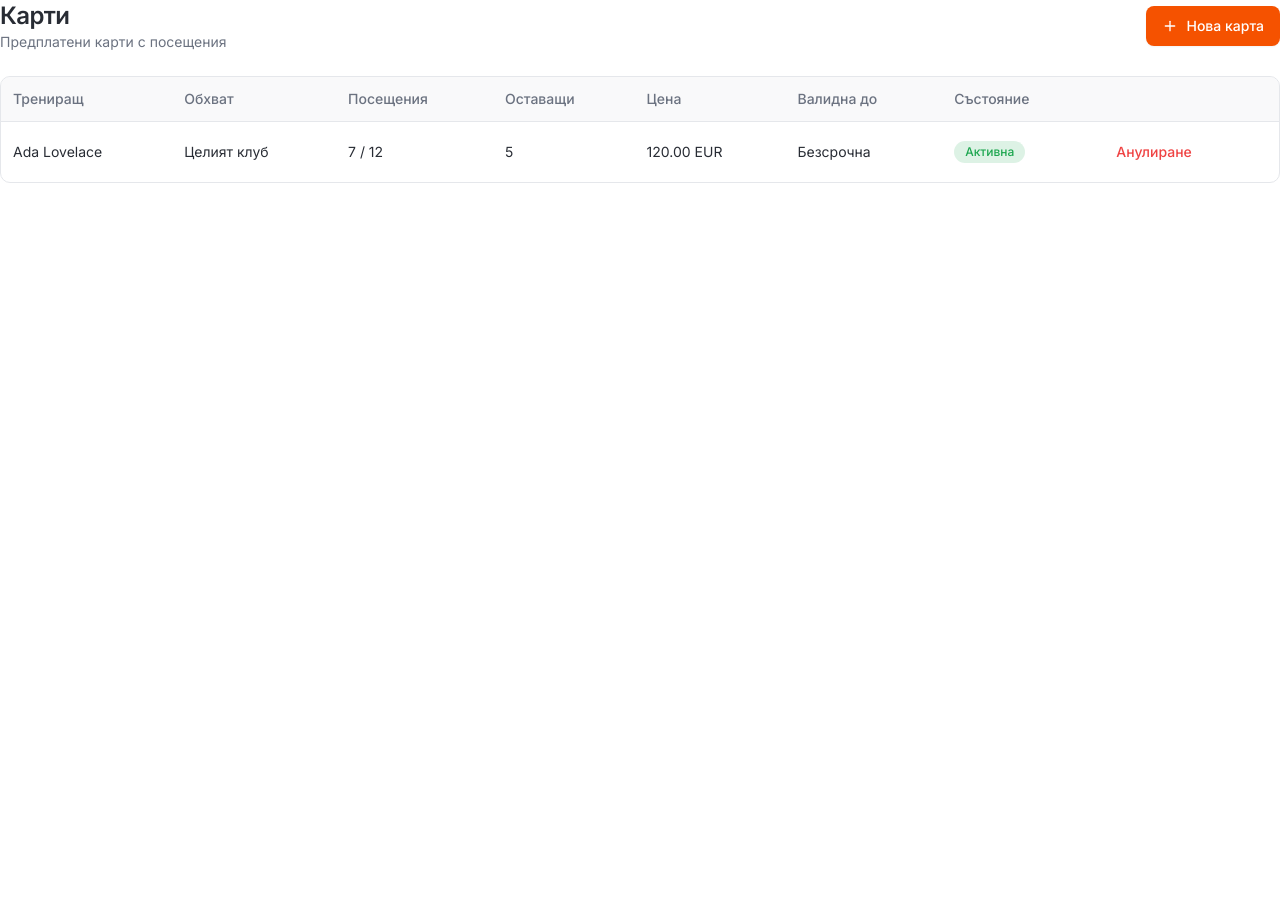
CardsPage — cancel with prorated refund (TKT-0115) › records the (edited) refund through the refunds endpoint first, then cancels
Expected: the text "Ada Lovelace" is shown, [1, 122, 172, 182]
Click the button "Анулиране" at (1154, 152), box [1104, 134, 1204, 170]
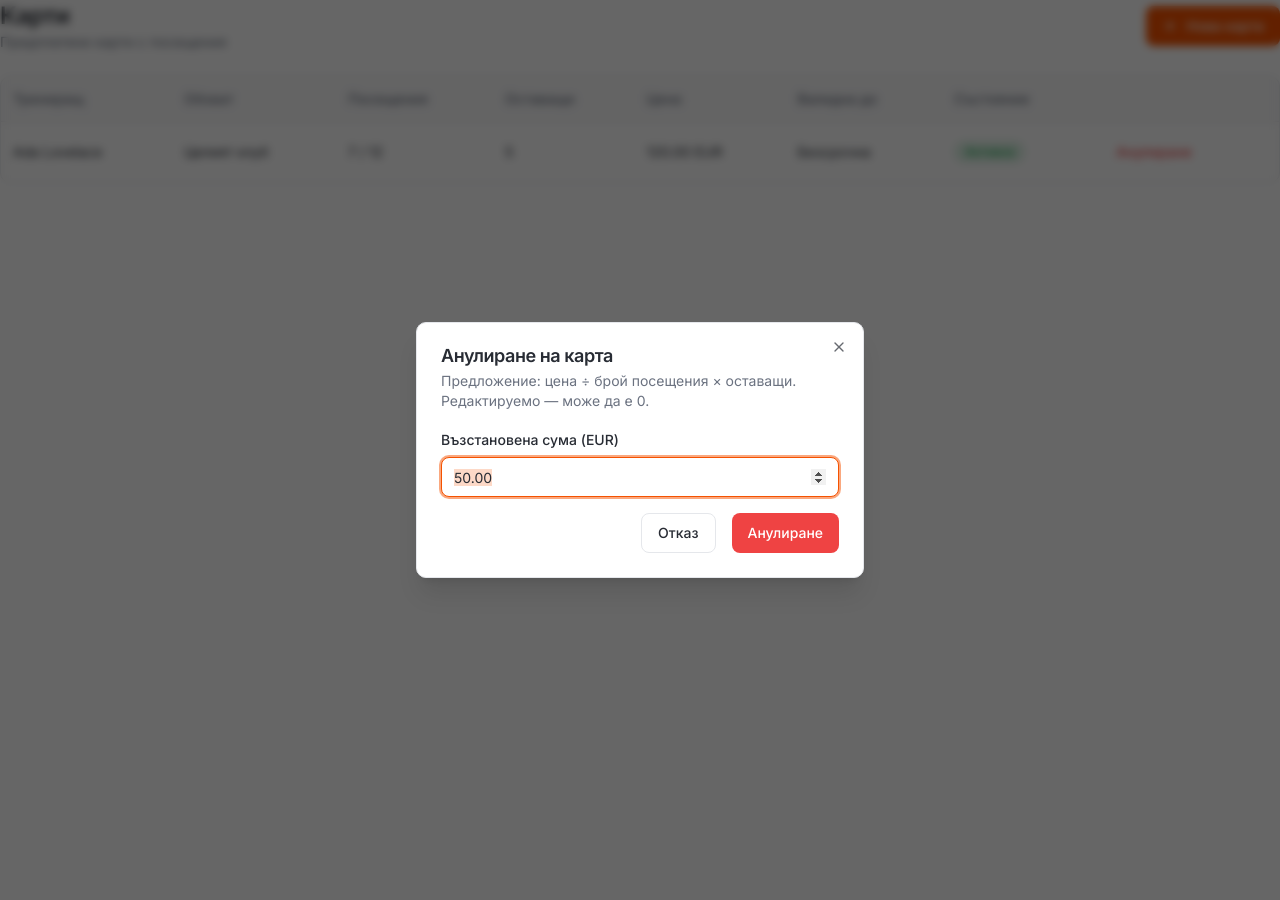
Replace the text in the number field with id "cancel-amount" with "30" at (640, 477), box [441, 457, 839, 497]
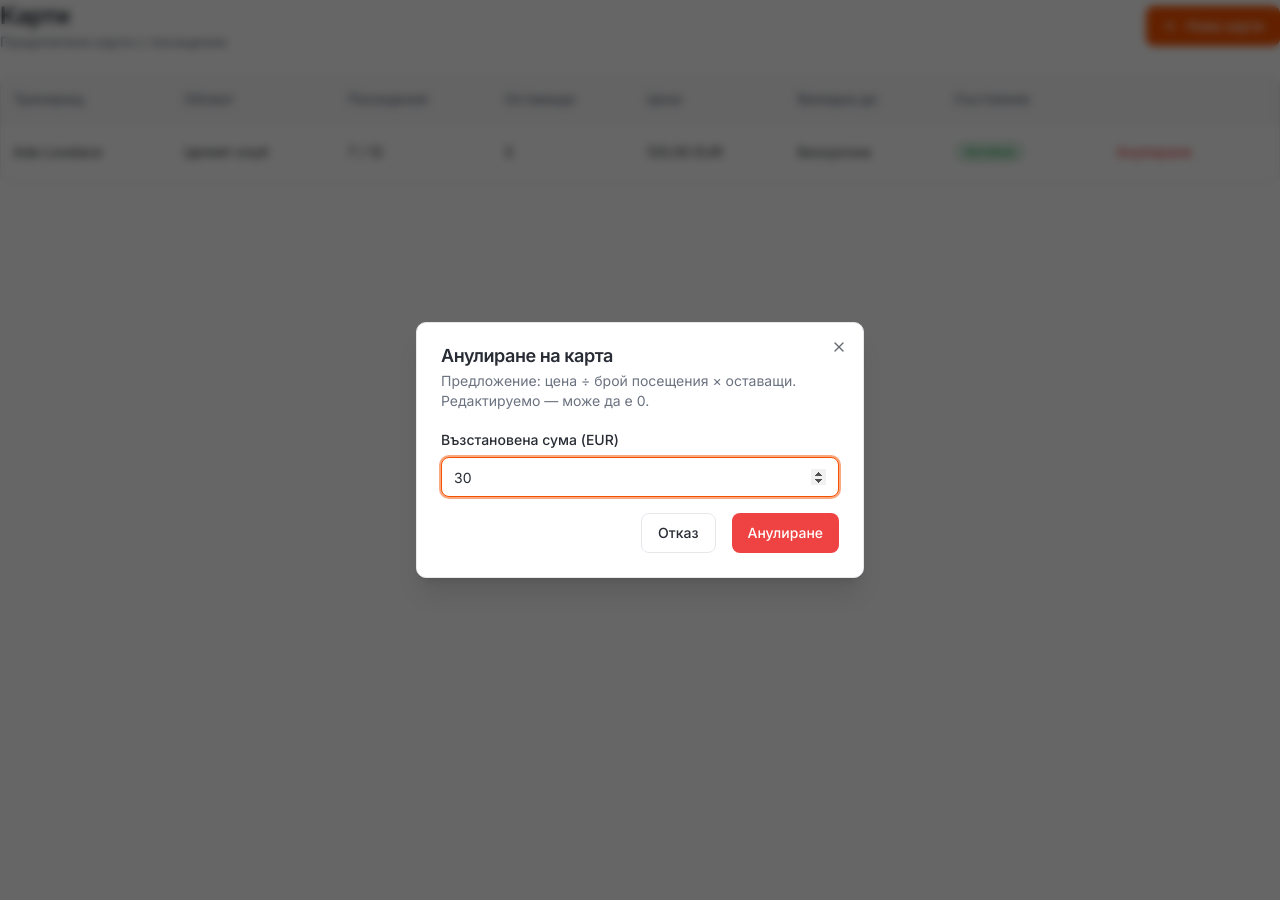
Click the button "Анулиране" at (785, 533), box [732, 513, 839, 553]
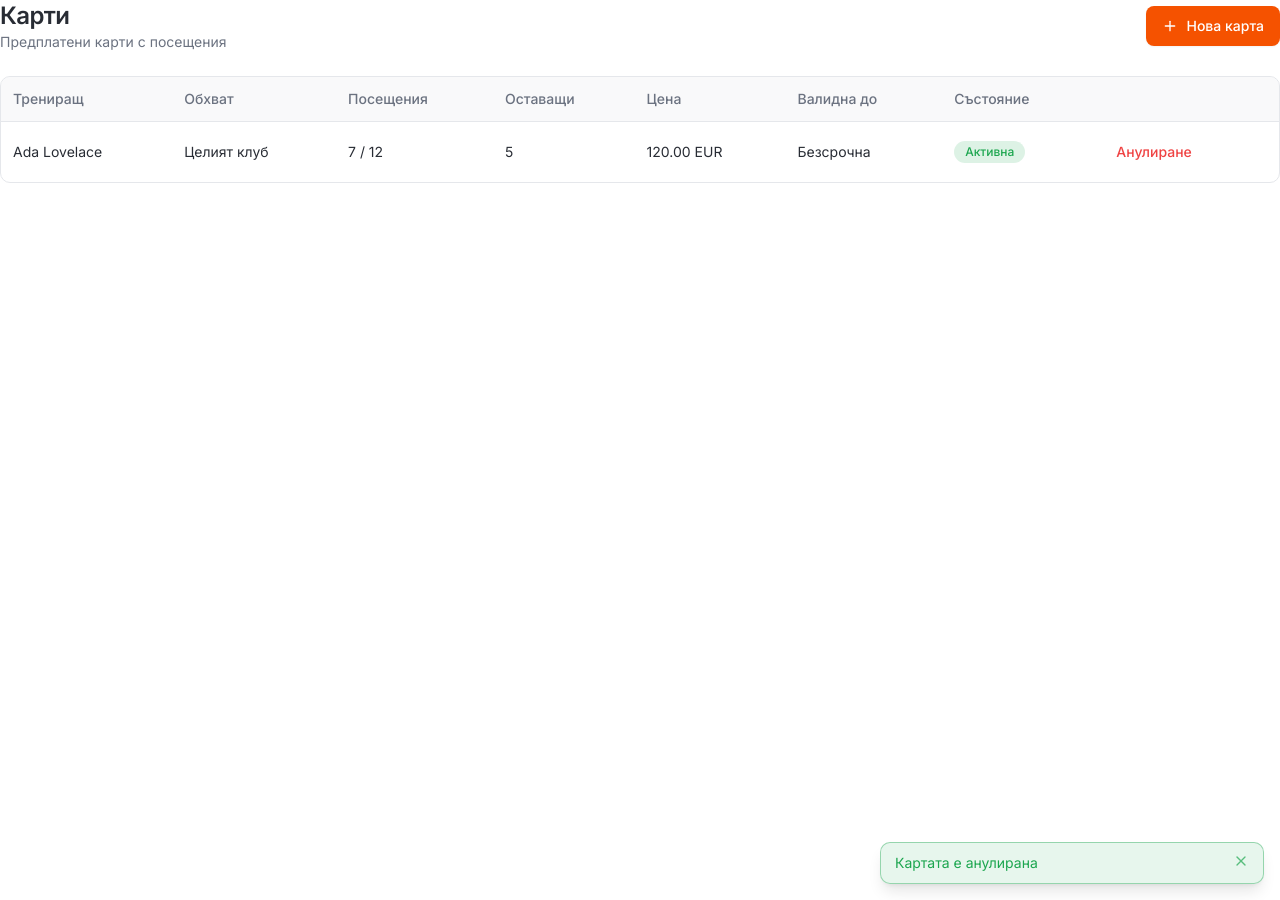
Expected: the text "Картата е анулирана" is shown, [895, 854, 1038, 871]
